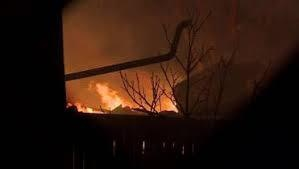fire: (72, 75, 180, 112)
